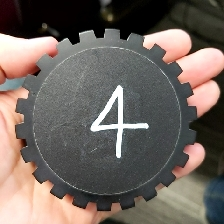gear: (13, 27, 199, 213)
